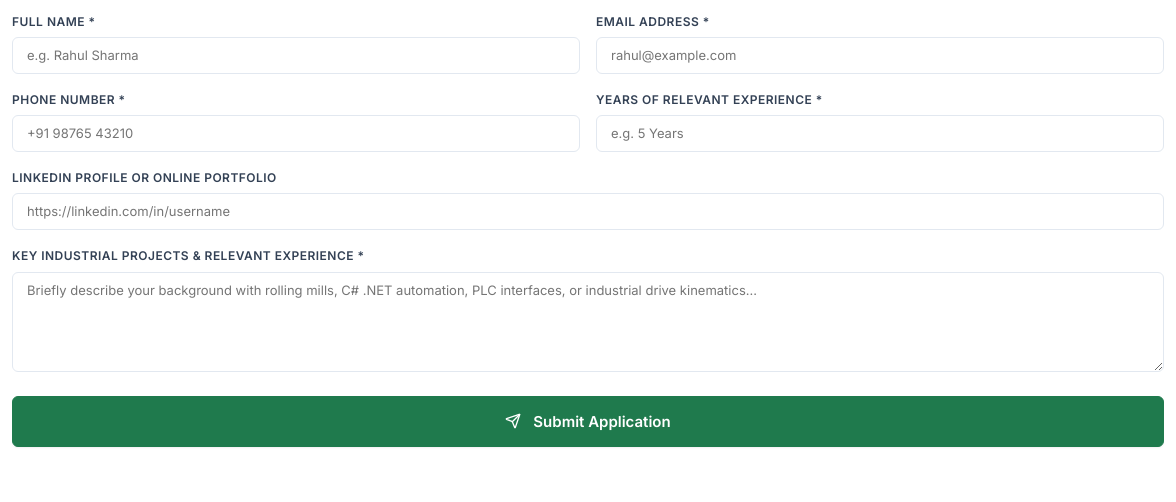
Test: JobApplicationForm › shows network error message when fetch throws
Type "Rahul Sharma" into the field labelled "Full Name *". click: (296, 56)
box: [12,37,580,74]
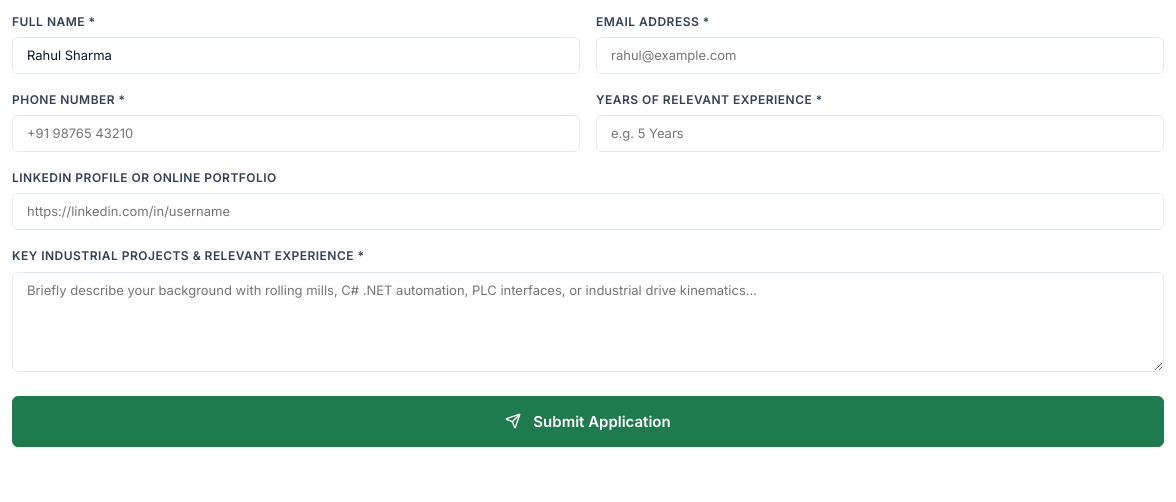
Type "rahul@plant.com" into the field labelled "Email Address *". click: (880, 56)
box: [596,37,1164,74]
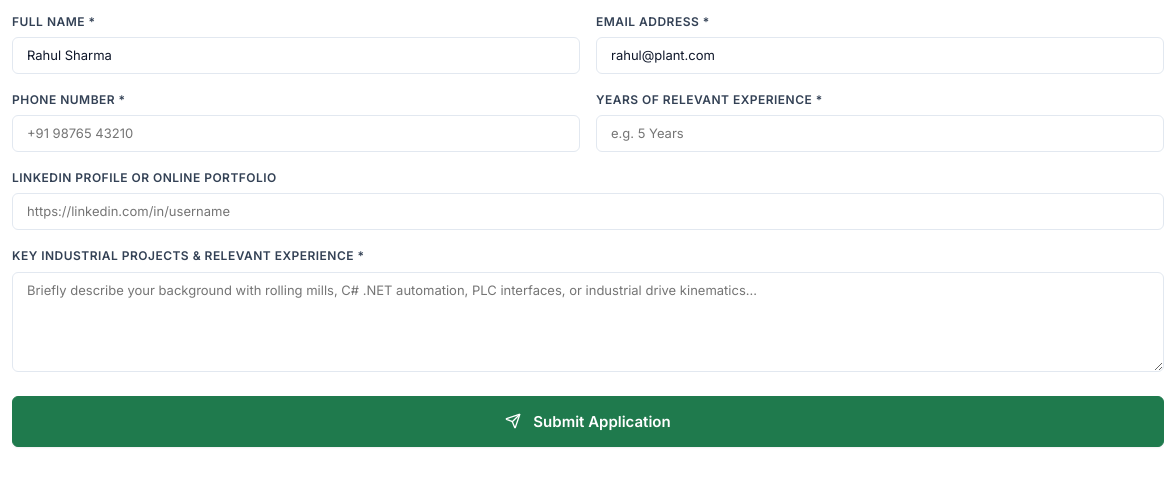
Type "+91 9876543210" into the field labelled "Phone Number *". click: (296, 134)
box: [12,115,580,152]
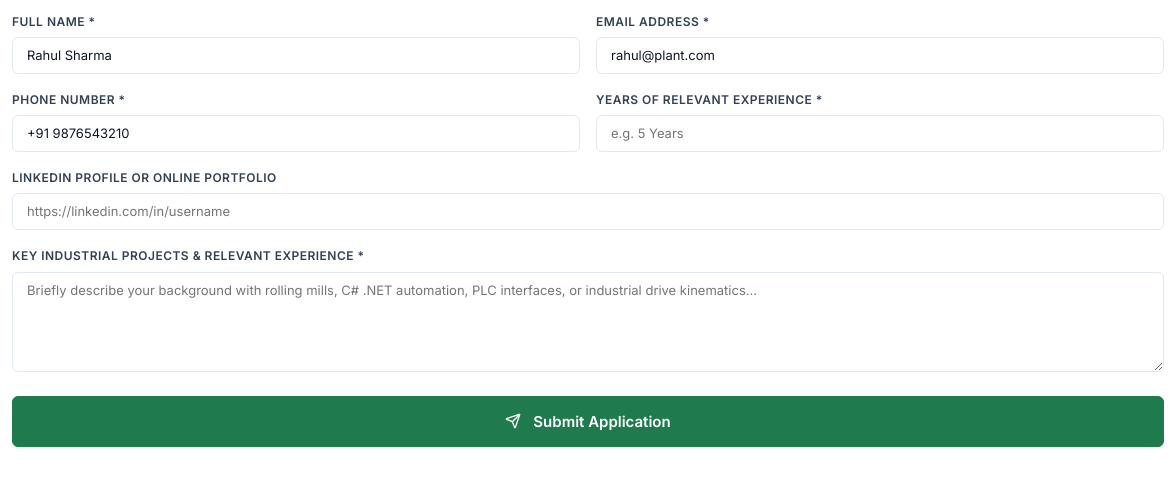
Type "5 Years" into the field labelled "Years of Relevant Experience *". click: (880, 134)
box: [596,115,1164,152]
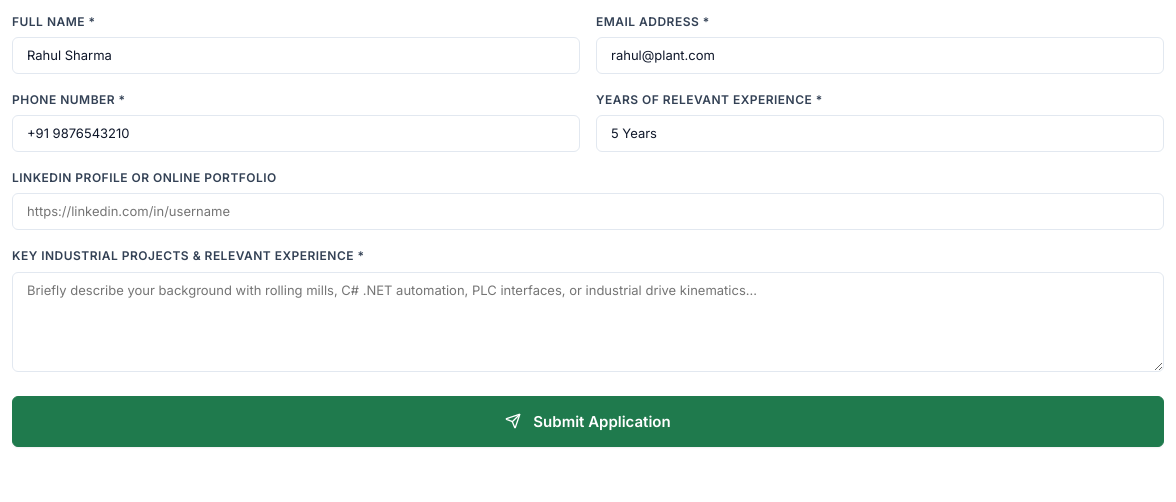
Replace the text in the text box labelled "Key Industrial Projects & Relevant Experience *" with "Worked on 16-stand bar mill automation with Siemens S7-400 PLCs and C# SCADA.". click: (588, 322)
box: [12,272,1164,372]
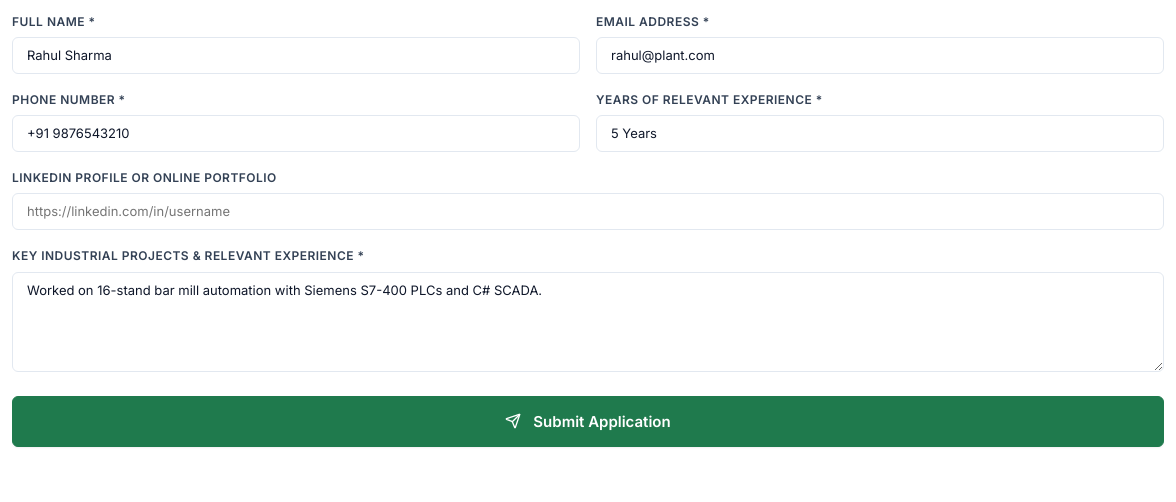
Click the button "Submit Application". click: (588, 421)
box: [12,396,1164,447]
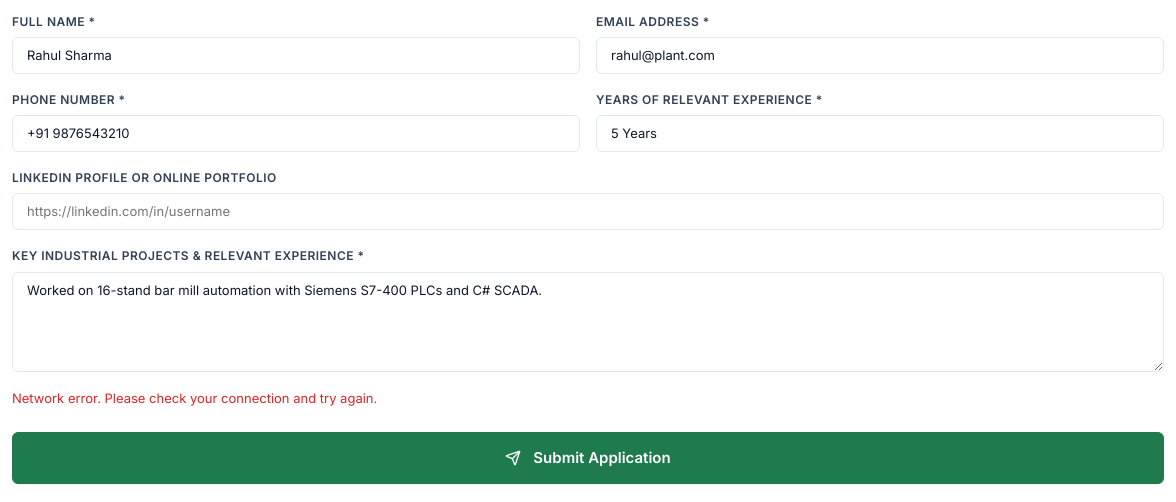
Expected: the text "Network error. Please check your connection and try again." is shown, [12,390,377,406]
